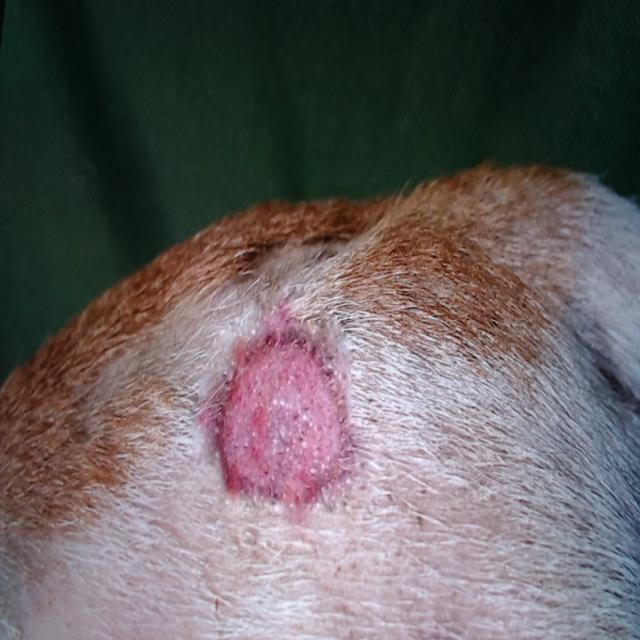ringworm: (197, 309, 370, 527)
